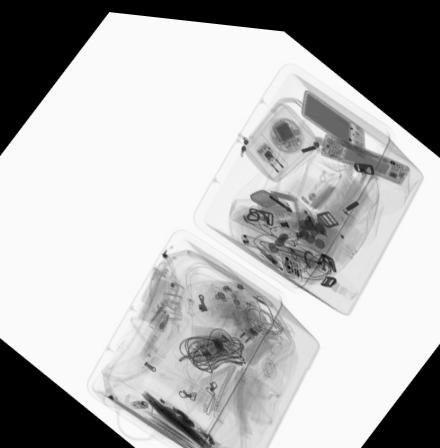Lighter: (128, 397, 147, 406)
